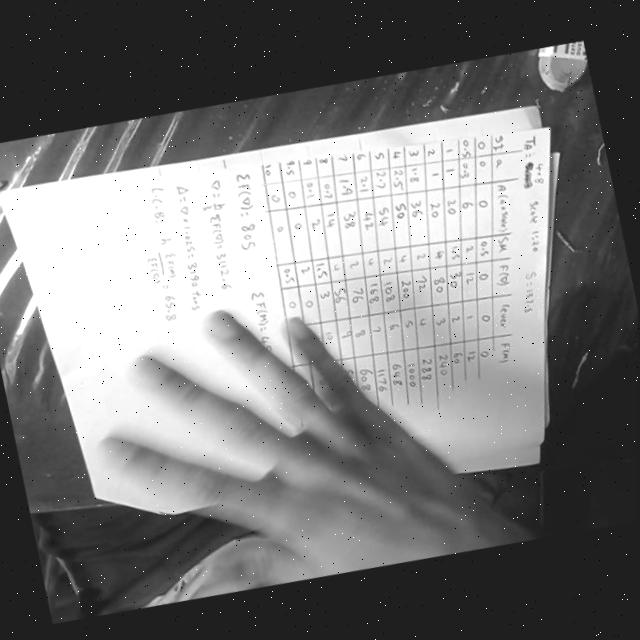document: (1, 107, 551, 581)
